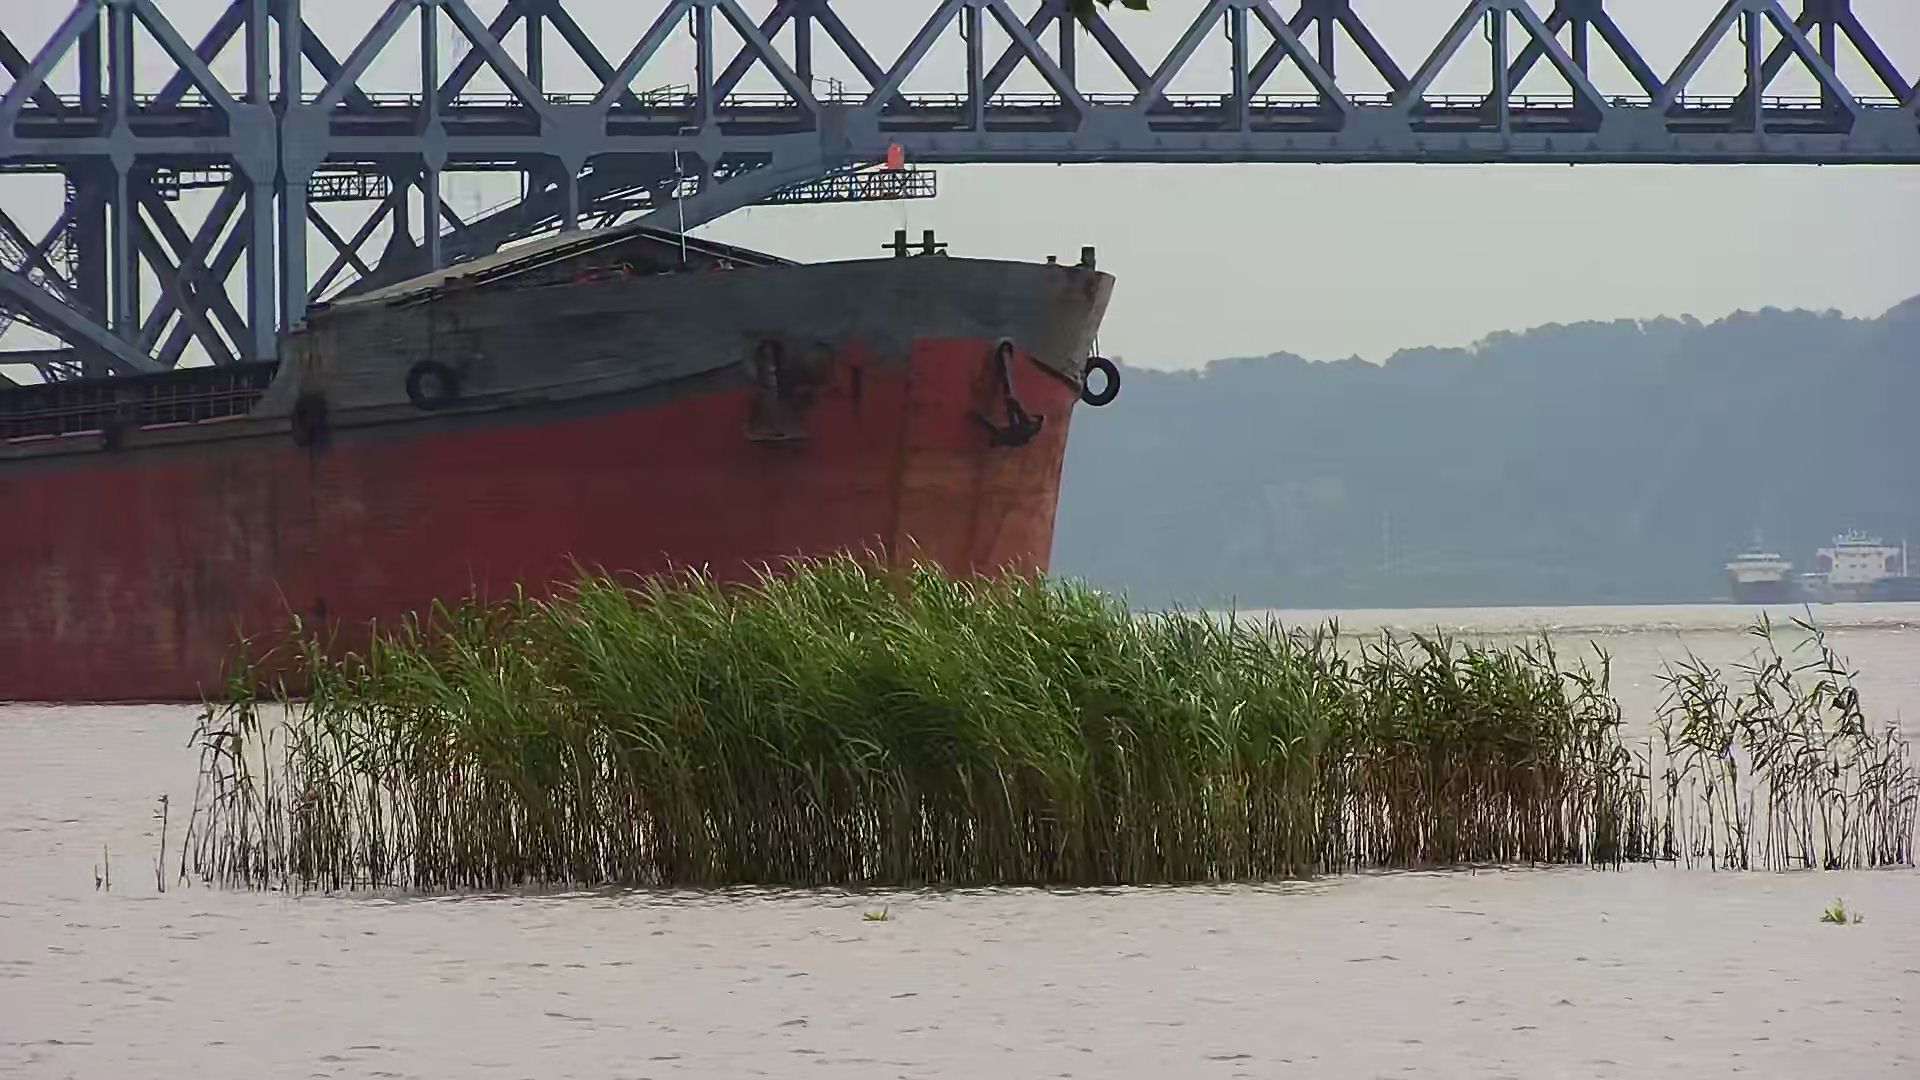bridge: (1, 3, 1919, 384)
grass: (179, 538, 1920, 890)
ship: (1, 144, 1118, 707)
